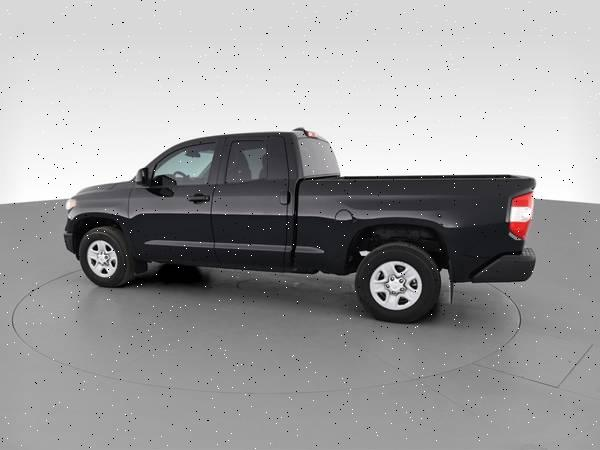Front_Fender: (62, 181, 140, 257)
Front_Left_Door: (128, 184, 219, 267)
Front_Left_Window: (149, 141, 225, 186)
Left_Taillight: (509, 190, 534, 243)
Rear_Bumper: (473, 248, 534, 282), (65, 226, 77, 253)
Rear_Fender: (292, 178, 535, 282)
Rear_Left_Door: (211, 181, 297, 271)
Rear_Left_Window: (215, 140, 268, 184)
Rear_Windshield: (292, 132, 342, 179)
Roof: (131, 130, 297, 187)
Wheel: (354, 244, 440, 325), (77, 226, 129, 283)
